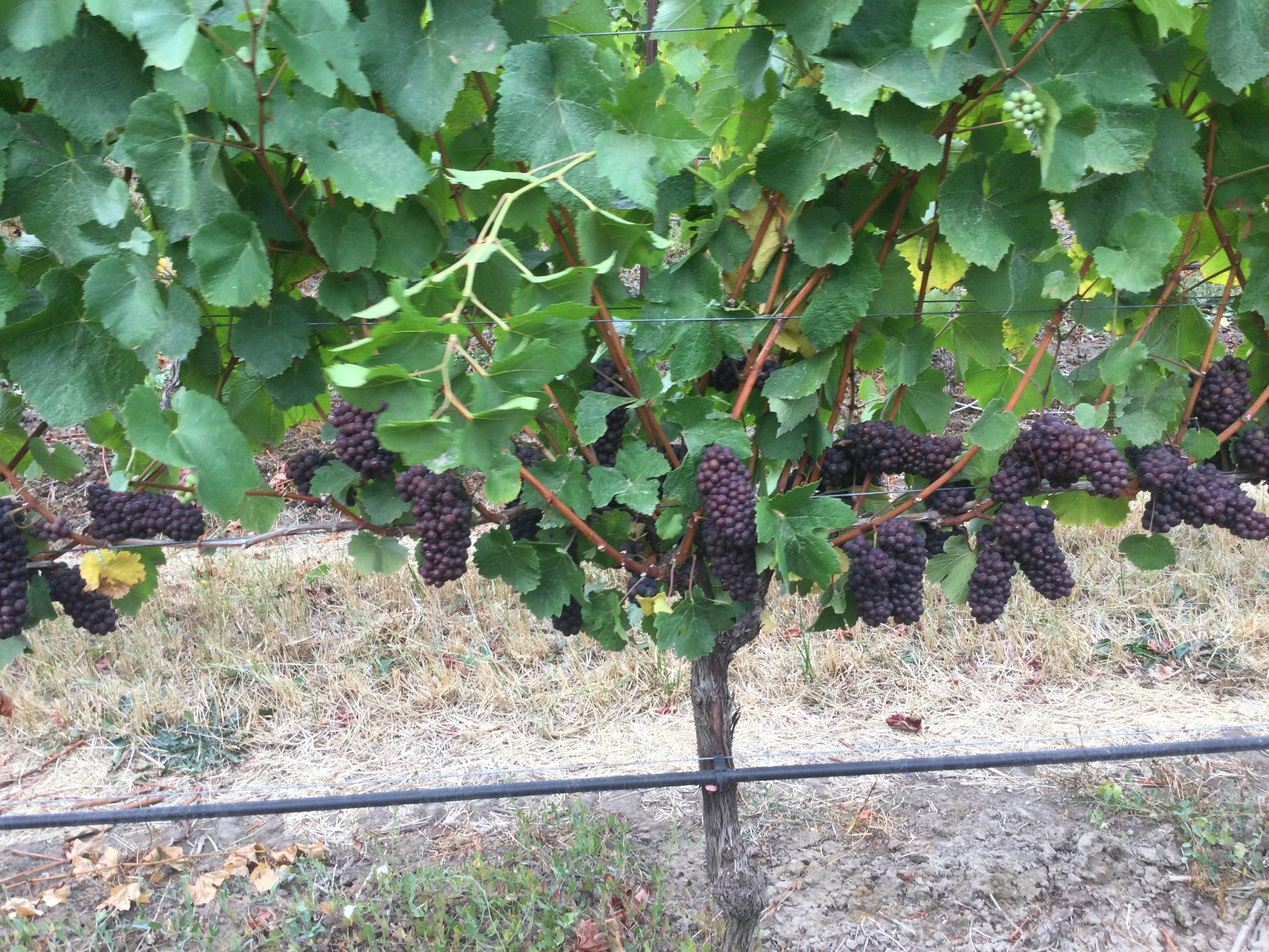leaf: (0, 270, 145, 426), (1019, 10, 1158, 172), (817, 0, 998, 114), (357, 0, 507, 135), (271, 86, 430, 211), (1064, 109, 1203, 247), (123, 387, 259, 518), (8, 17, 149, 141), (0, 112, 114, 264), (595, 64, 708, 208), (495, 36, 614, 167), (756, 87, 878, 202), (939, 153, 1053, 270), (636, 255, 735, 379), (756, 483, 855, 586), (268, 0, 370, 95), (121, 92, 195, 208), (800, 246, 880, 350), (189, 212, 271, 306), (83, 255, 165, 348), (1033, 77, 1096, 192), (1094, 211, 1180, 291), (232, 297, 316, 377), (653, 588, 737, 659), (134, 285, 201, 371), (1205, 0, 1268, 91), (131, 0, 213, 69), (757, 0, 861, 54), (372, 201, 444, 277), (871, 95, 941, 169), (308, 201, 377, 272), (519, 543, 584, 617), (474, 526, 540, 591), (0, 0, 81, 51), (789, 205, 853, 267), (895, 367, 955, 432), (616, 443, 670, 514), (533, 457, 593, 518), (762, 349, 834, 399), (925, 535, 976, 604), (883, 322, 935, 385), (575, 390, 633, 444), (911, 0, 974, 48), (965, 397, 1018, 452), (582, 589, 628, 651), (1048, 491, 1129, 526), (734, 28, 773, 99), (348, 531, 409, 574), (1098, 338, 1148, 385), (29, 439, 84, 481), (1119, 533, 1177, 570), (233, 495, 286, 534), (521, 481, 566, 524), (566, 163, 610, 200), (33, 0, 56, 11), (255, 476, 269, 490), (1079, 167, 1083, 174), (1074, 159, 1077, 161), (1068, 159, 1071, 161), (1009, 89, 1012, 91), (1037, 37, 1039, 40), (591, 257, 594, 259), (1019, 86, 1021, 88), (15, 43, 16, 46), (918, 53, 919, 55), (592, 470, 593, 471), (891, 404, 892, 405), (19, 47, 19, 48), (423, 200, 426, 200), (304, 401, 306, 401)
